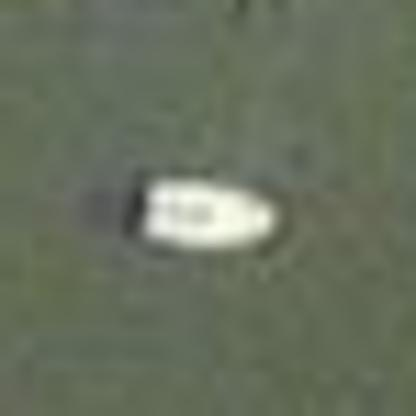ship: (102, 160, 308, 273)
